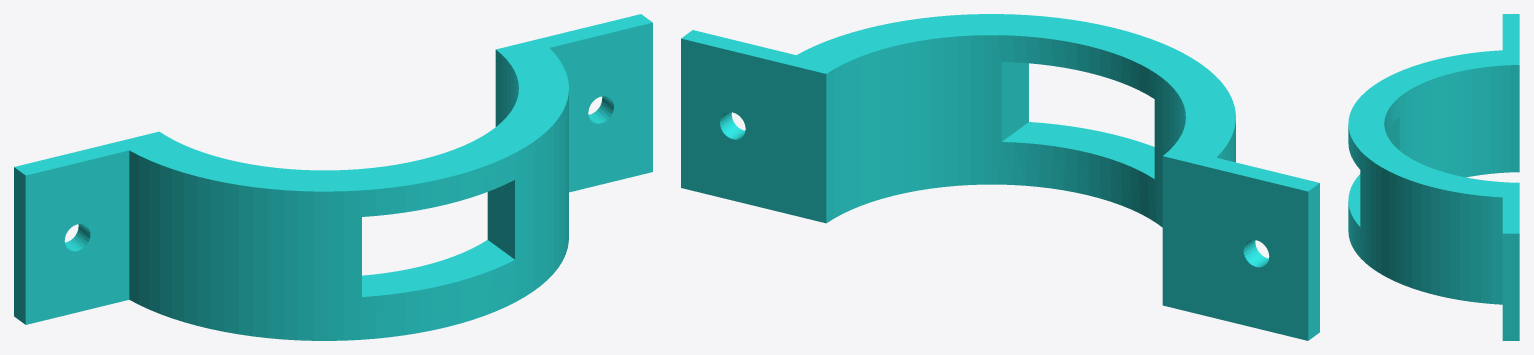
Rendered from UR3_camera_mount_lower_v2.dae.
3 renders of one model, left to right at view 1: azimuth 30°, elevation 25°; view 2: azimuth 150°, elevation 25°; view 3: azimuth 270°, elevation 25°, orthographic. The views are drawn at different scales.
Visible parts, largest first — view 1: UR3 camera maunt lower v2 v0; view 2: UR3 camera maunt lower v2 v0; view 3: UR3 camera maunt lower v2 v0.
Boxes of the visible parts, x1,y1,x2,y2 form: UR3 camera maunt lower v2 v0: (14, 14, 652, 340); UR3 camera maunt lower v2 v0: (681, 14, 1319, 340); UR3 camera maunt lower v2 v0: (1348, 14, 1519, 340).
Bounding box in the file's own units: 0.123 × 0.0405 × 0.028.
